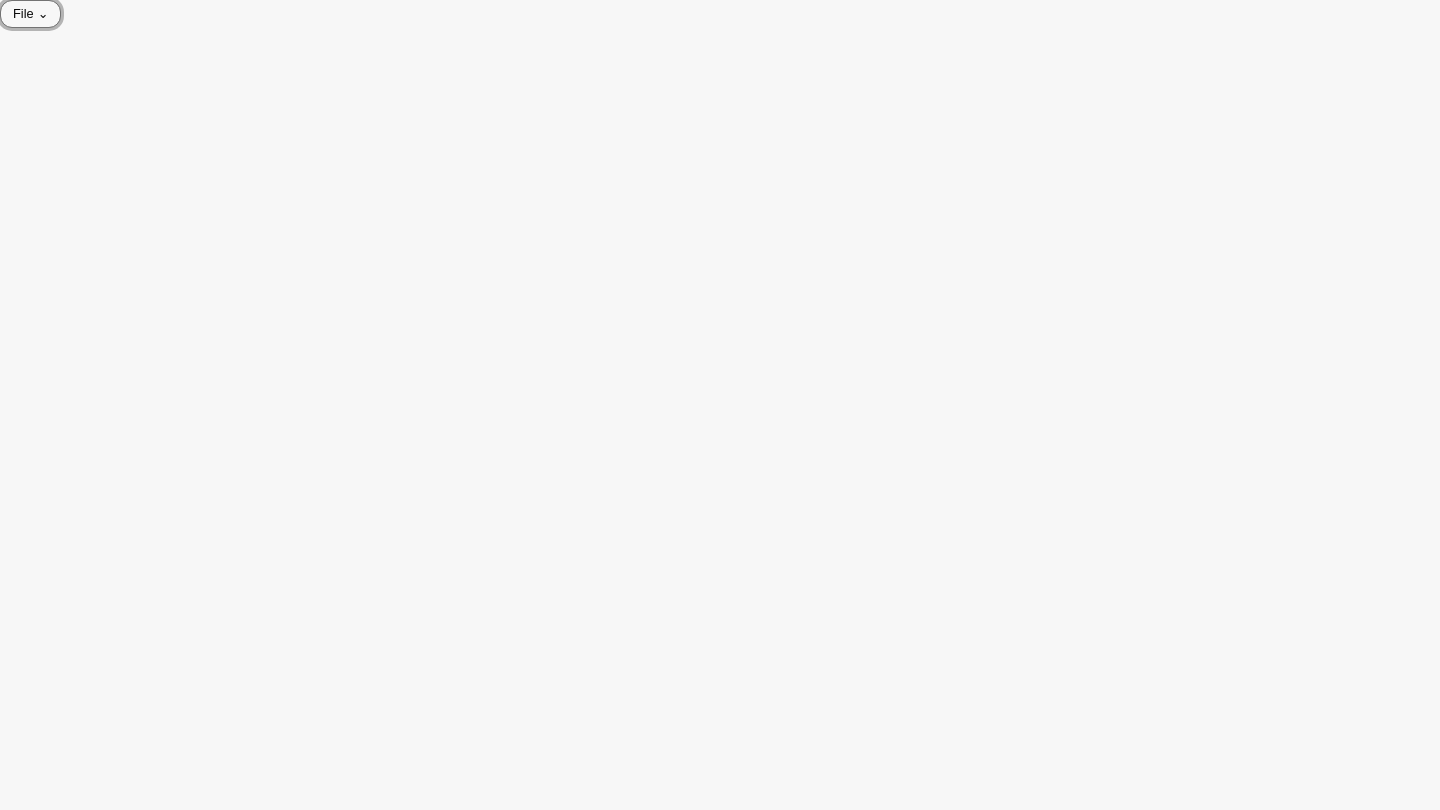
Test case: opens a document dialog from File and returns focus to File when cancelled
Press the mouse on the button "File ⌄" at (31, 14), box [0, 0, 61, 28]
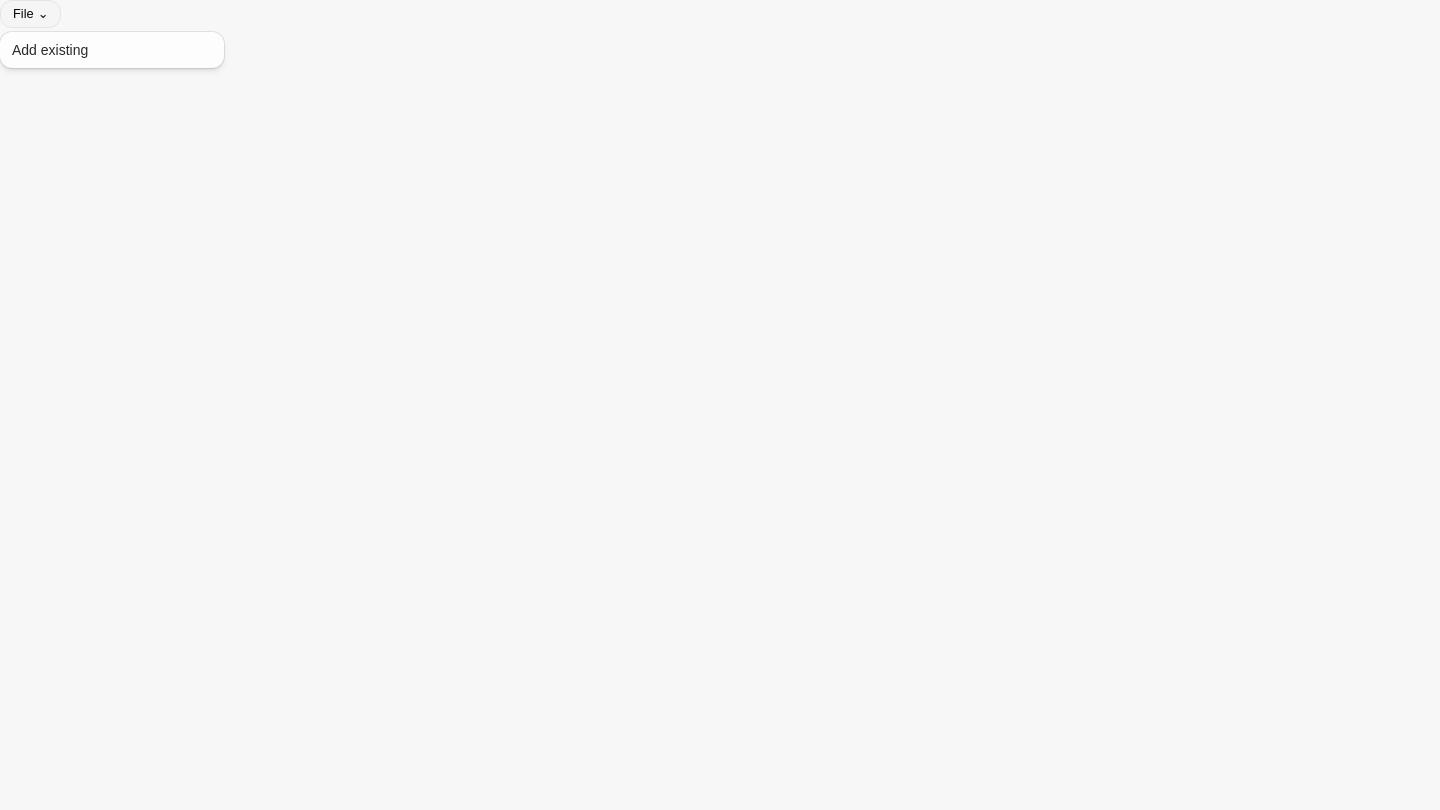
Click the menu item "Add existing" at (50, 50), box [12, 42, 88, 58]
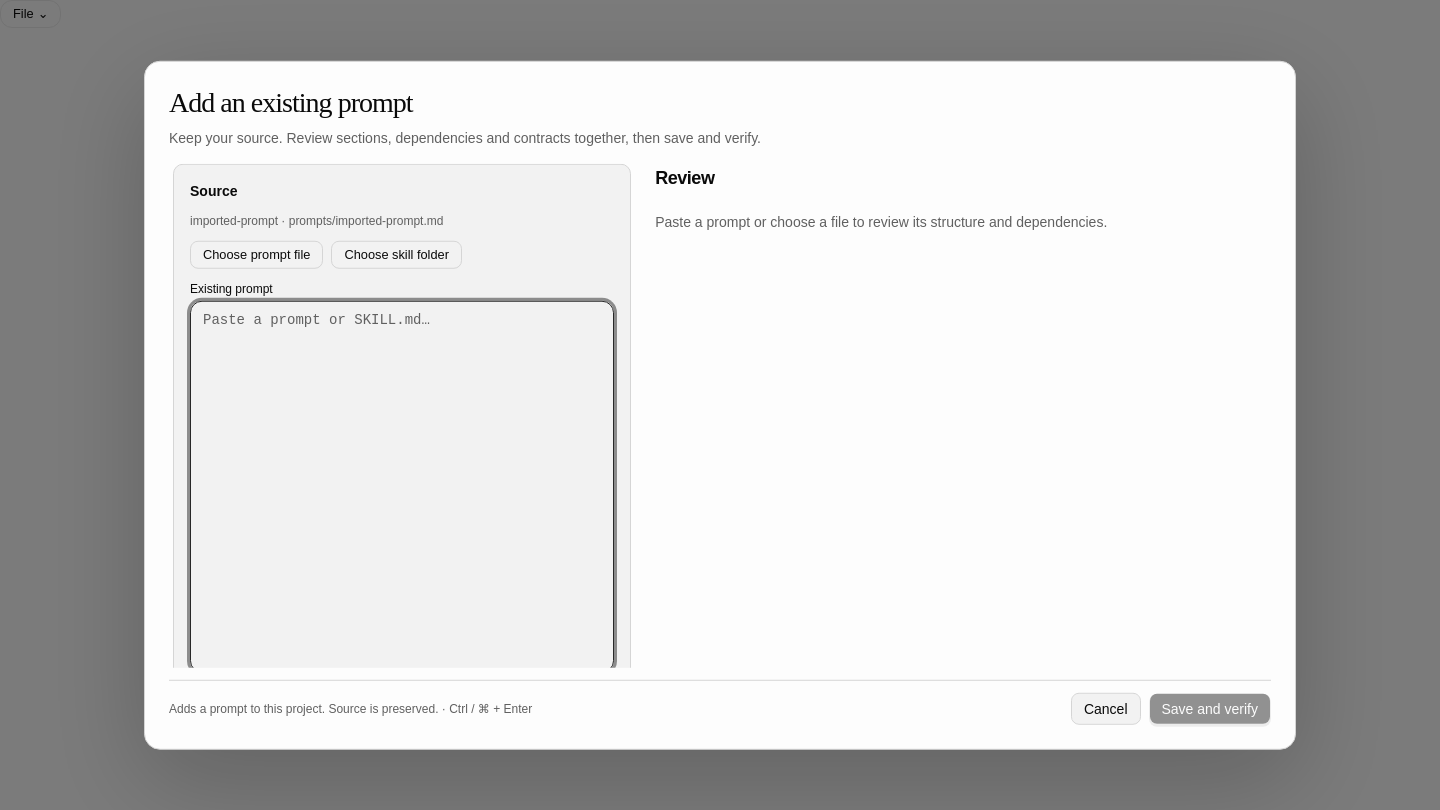
Click the button "Cancel" at (1106, 708), box [1071, 692, 1140, 724]
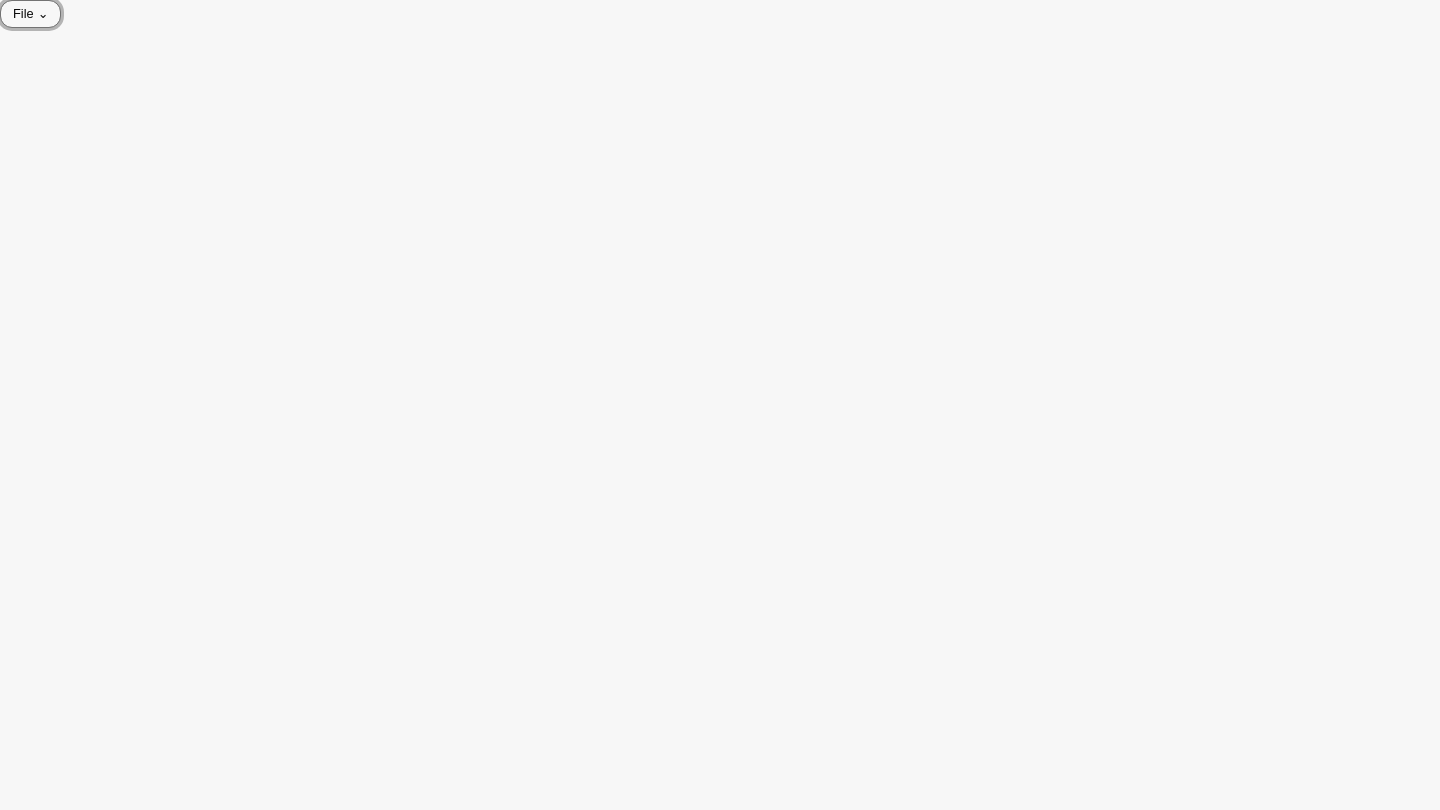
Result: the dialog is gone
